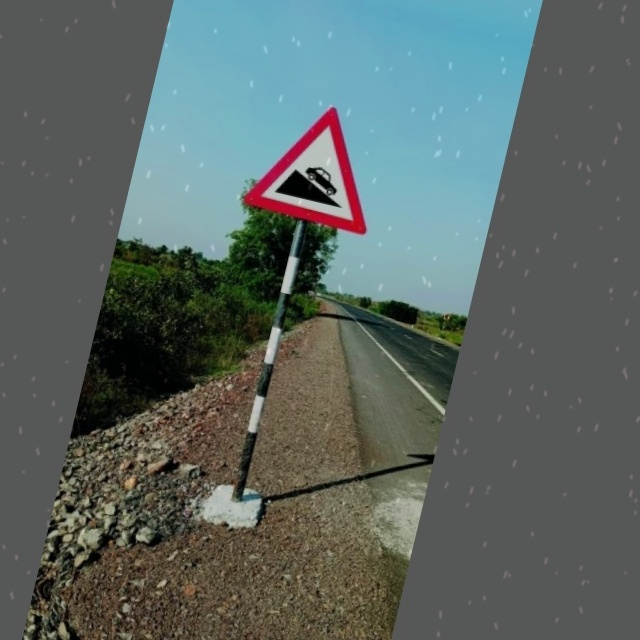Steep_Descent: (245, 92, 386, 233)
